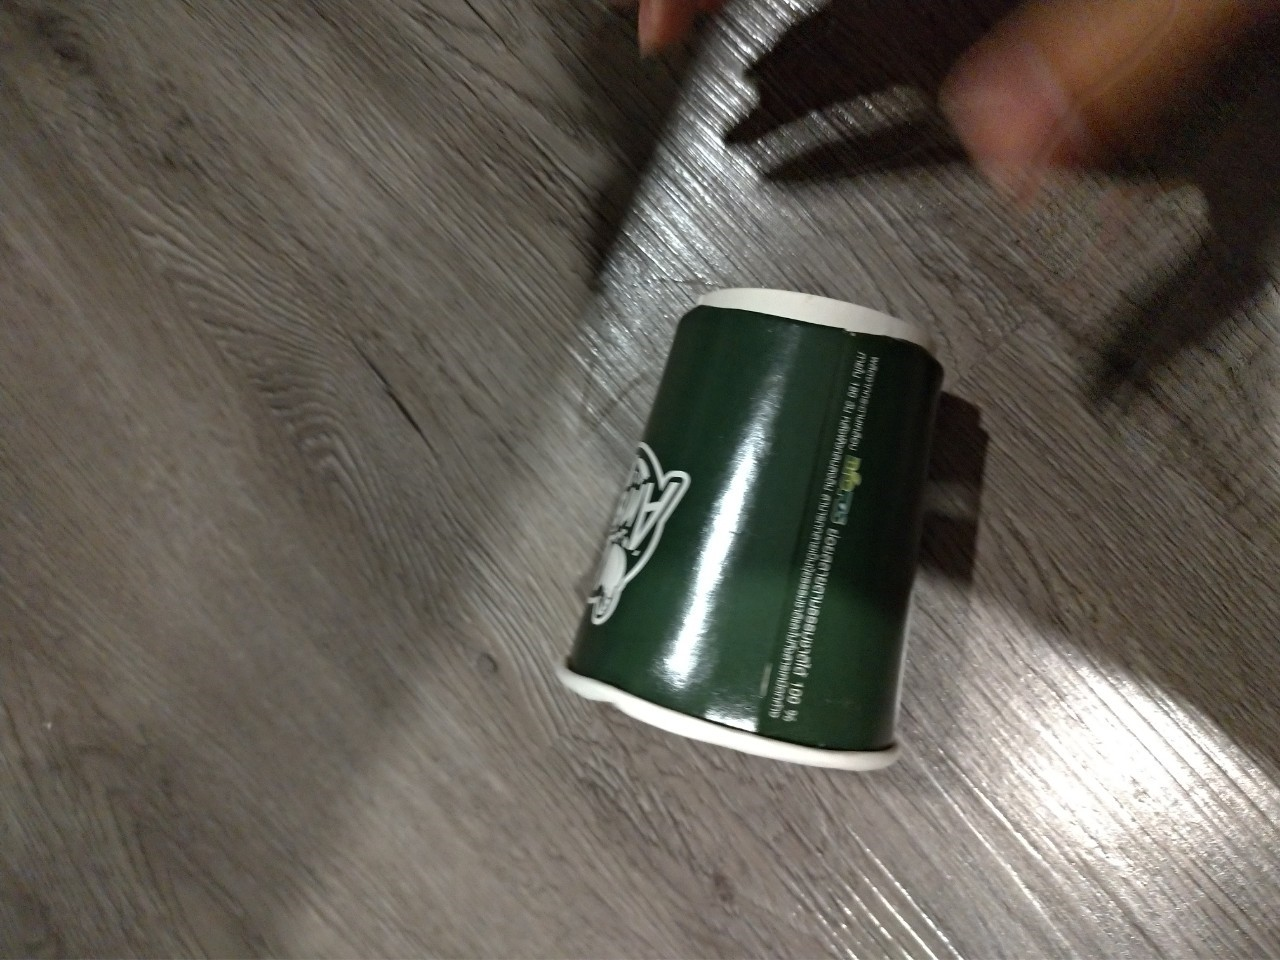PaperCup: (552, 281, 952, 777)
